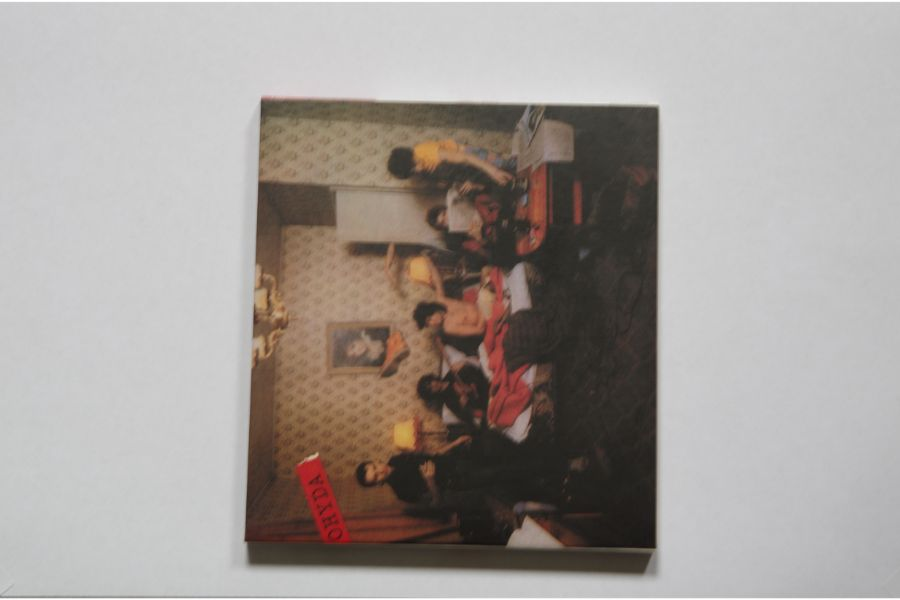album: (246, 94, 660, 556)
